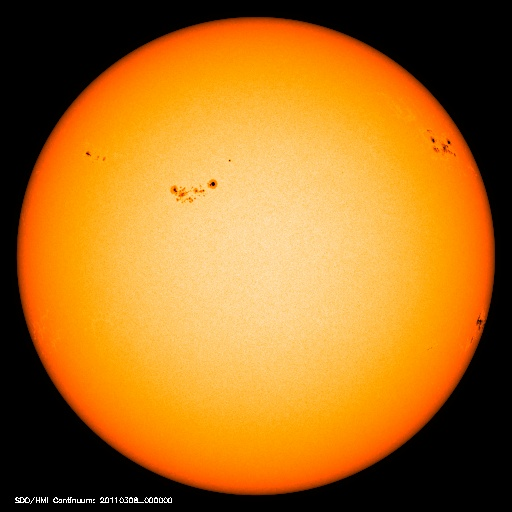sunspot: (165, 152, 237, 209), (416, 123, 464, 164), (463, 308, 493, 349), (77, 142, 117, 168)
